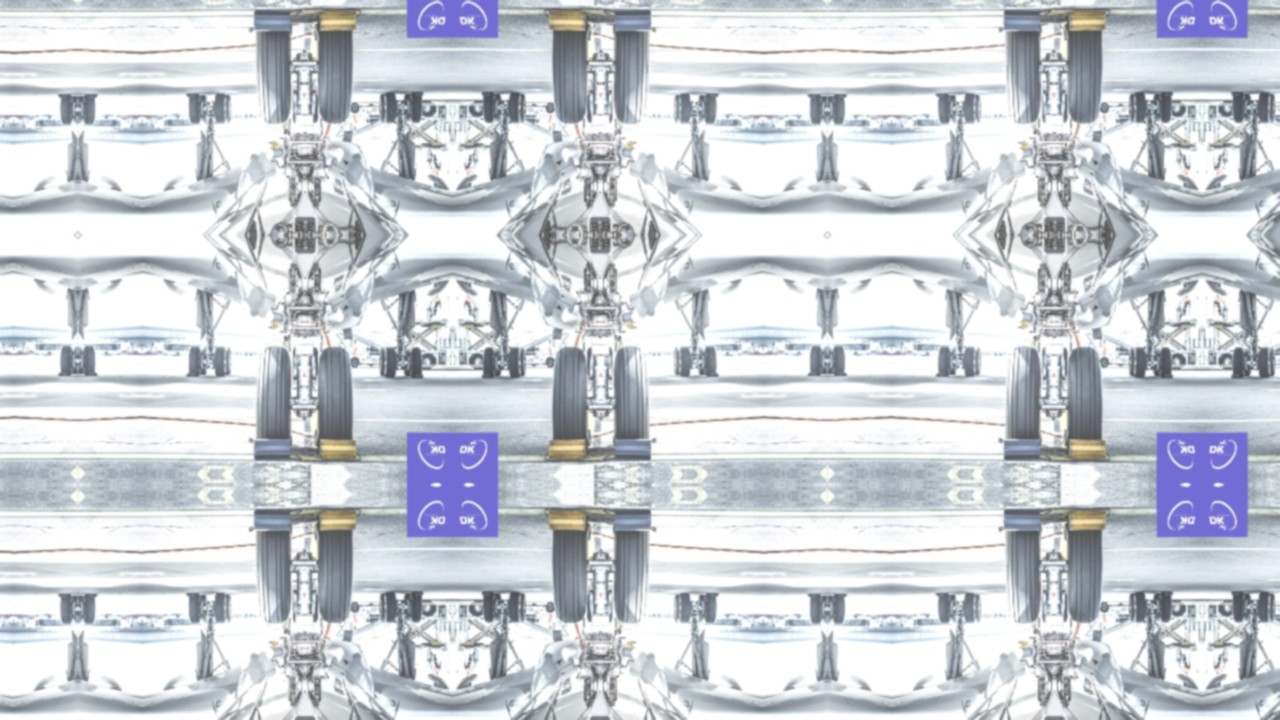chock: (318, 8, 357, 32), (252, 9, 291, 33), (548, 8, 587, 32), (614, 9, 653, 33), (1068, 8, 1107, 32), (1002, 9, 1041, 33), (318, 438, 357, 462), (252, 437, 291, 461), (548, 438, 587, 462), (614, 437, 653, 461), (1068, 438, 1107, 462), (1002, 437, 1041, 461), (318, 508, 357, 532), (252, 509, 291, 533), (548, 508, 587, 532), (614, 509, 653, 533), (1068, 508, 1107, 532), (1002, 509, 1041, 533)
wheel: (316, 21, 354, 122), (551, 21, 589, 122), (1066, 21, 1104, 122), (316, 348, 354, 449), (551, 348, 589, 449), (1066, 348, 1104, 449), (316, 521, 354, 622), (551, 521, 589, 622), (1066, 521, 1104, 622), (256, 23, 293, 124), (612, 23, 649, 124), (1006, 23, 1043, 124), (256, 346, 293, 447), (612, 346, 649, 447), (1006, 346, 1043, 447), (256, 523, 293, 624), (612, 523, 649, 624), (1006, 523, 1043, 624), (292, 90, 319, 124), (586, 90, 613, 124), (1042, 90, 1069, 124), (292, 346, 319, 380), (586, 346, 613, 380), (1042, 346, 1069, 380), (292, 590, 319, 624), (586, 590, 613, 624), (1042, 590, 1069, 624), (379, 93, 397, 124), (508, 93, 526, 124), (1129, 93, 1147, 124), (1258, 93, 1276, 124), (379, 346, 397, 377), (508, 346, 526, 377), (1129, 346, 1147, 377), (1258, 346, 1276, 377), (379, 593, 397, 624), (508, 593, 526, 624), (1129, 593, 1147, 624), (1258, 593, 1276, 624), (60, 94, 76, 125), (188, 94, 204, 125), (79, 94, 95, 125), (701, 94, 717, 125), (810, 94, 826, 125), (938, 94, 954, 125), (829, 94, 845, 125), (60, 345, 76, 376), (188, 345, 204, 376), (79, 345, 95, 376), (701, 345, 717, 376), (810, 345, 826, 376), (938, 345, 954, 376), (829, 345, 845, 376), (60, 594, 76, 625), (188, 594, 204, 625), (79, 594, 95, 625), (701, 594, 717, 625), (810, 594, 826, 625), (938, 594, 954, 625), (829, 594, 845, 625), (409, 92, 423, 123), (482, 92, 496, 123), (1159, 92, 1173, 123), (1232, 92, 1246, 123), (409, 347, 423, 378), (482, 347, 496, 378), (1159, 347, 1173, 378), (1232, 347, 1246, 378), (409, 592, 423, 623), (482, 592, 496, 623), (1159, 592, 1173, 623), (1232, 592, 1246, 623), (214, 94, 226, 124), (679, 94, 691, 124), (964, 94, 976, 124), (214, 346, 226, 376), (679, 346, 691, 376), (964, 346, 976, 376), (214, 594, 226, 624), (679, 594, 691, 624), (964, 594, 976, 624), (403, 94, 413, 122), (492, 94, 502, 122), (1153, 94, 1163, 122), (1242, 94, 1252, 122), (403, 348, 413, 376), (492, 348, 502, 376), (1153, 348, 1163, 376), (1242, 348, 1252, 376), (403, 594, 413, 622), (492, 594, 502, 622), (1153, 594, 1163, 622), (1242, 594, 1252, 622), (199, 95, 208, 121), (697, 95, 706, 121), (949, 95, 958, 121), (199, 349, 208, 375), (697, 349, 706, 375), (949, 349, 958, 375), (199, 595, 208, 621), (697, 595, 706, 621), (949, 595, 958, 621), (224, 95, 232, 124), (673, 95, 681, 124), (974, 95, 982, 124), (224, 346, 232, 375), (673, 346, 681, 375), (974, 346, 982, 375), (224, 595, 232, 624), (673, 595, 681, 624), (974, 595, 982, 624), (312, 91, 318, 124), (587, 91, 593, 124), (1062, 91, 1068, 124), (312, 346, 318, 379), (587, 346, 593, 379), (1062, 346, 1068, 379), (312, 591, 318, 624), (587, 591, 593, 624), (1062, 591, 1068, 624), (379, 94, 386, 122), (519, 94, 526, 122), (1129, 94, 1136, 122), (1269, 94, 1276, 122), (379, 348, 386, 376), (519, 348, 526, 376), (1129, 348, 1136, 376), (1269, 348, 1276, 376), (379, 594, 386, 622), (519, 594, 526, 622), (1129, 594, 1136, 622), (1269, 594, 1276, 622), (71, 96, 78, 122), (421, 104, 435, 117), (470, 104, 484, 117), (1171, 104, 1185, 117), (1220, 104, 1234, 117), (71, 348, 78, 374), (421, 353, 435, 366), (470, 353, 484, 366), (1171, 353, 1185, 366), (1220, 353, 1234, 366), (71, 596, 78, 622), (421, 604, 435, 617), (470, 604, 484, 617), (1171, 604, 1185, 617), (1220, 604, 1234, 617), (78, 96, 84, 122), (821, 96, 827, 122), (828, 96, 834, 122), (78, 348, 84, 374), (821, 348, 827, 374), (828, 348, 834, 374), (78, 596, 84, 622), (821, 596, 827, 622), (828, 596, 834, 622), (292, 93, 296, 123), (609, 93, 613, 123), (1042, 93, 1046, 123), (292, 347, 296, 377), (609, 347, 613, 377), (1042, 347, 1046, 377), (292, 593, 296, 623), (609, 593, 613, 623), (1042, 593, 1046, 623), (350, 102, 359, 113), (546, 102, 555, 113), (1100, 102, 1109, 113), (350, 357, 359, 368), (546, 357, 555, 368), (1100, 357, 1109, 368), (350, 602, 359, 613), (546, 602, 555, 613), (1100, 602, 1109, 613), (369, 104, 373, 106), (532, 104, 536, 106), (1119, 104, 1123, 106), (369, 364, 373, 366), (532, 364, 536, 366), (1119, 364, 1123, 366), (369, 604, 373, 606), (532, 604, 536, 606), (1119, 604, 1123, 606)
